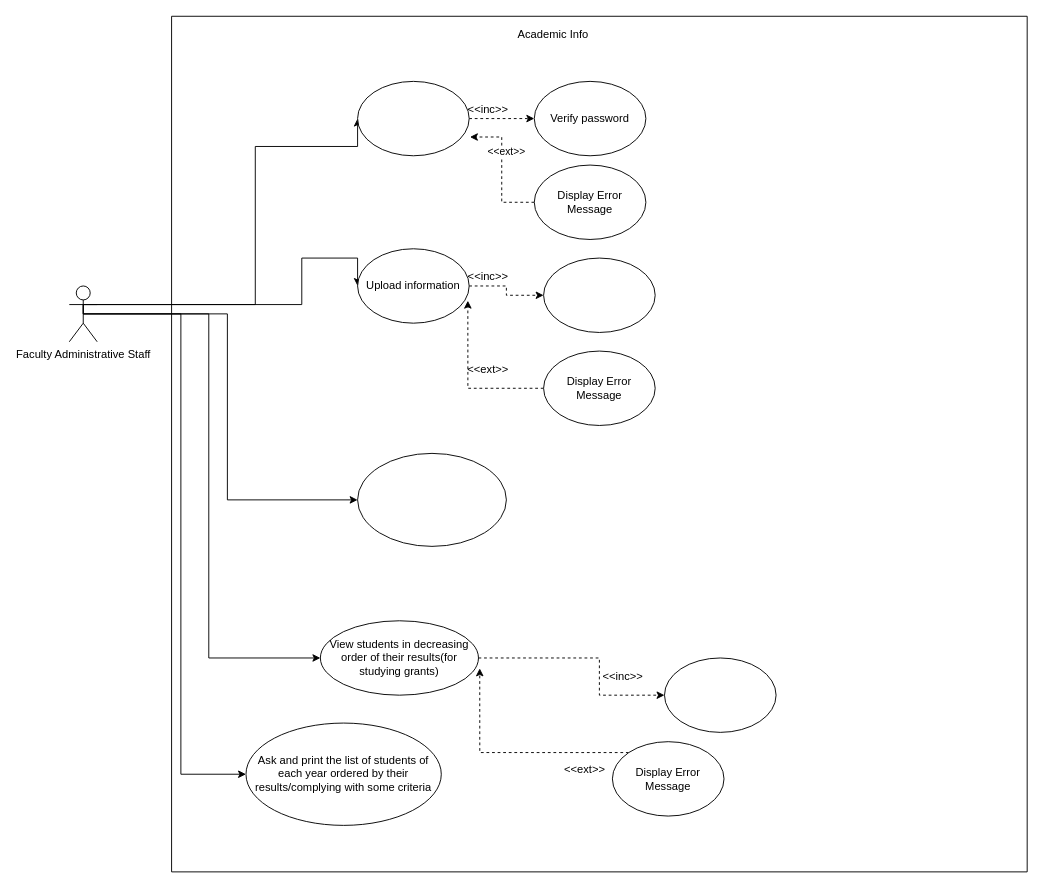
The diagram is 1044 pixels wide and 889 high, and some of its shapes have lost their labels. The box of each missing label's shape, as (x1, y1, x2, y2) in pixels:
Ask and print the list of students of each group ordered by their results: (357, 452, 506, 546)
Check if data is valid: (543, 257, 655, 332)
Check if it is the end of the semester: (664, 657, 776, 732)
Log In: (357, 80, 469, 156)
